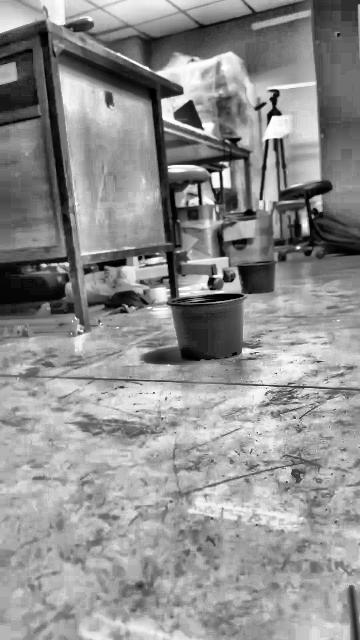pot: (167, 293, 244, 360), (237, 260, 275, 293)
